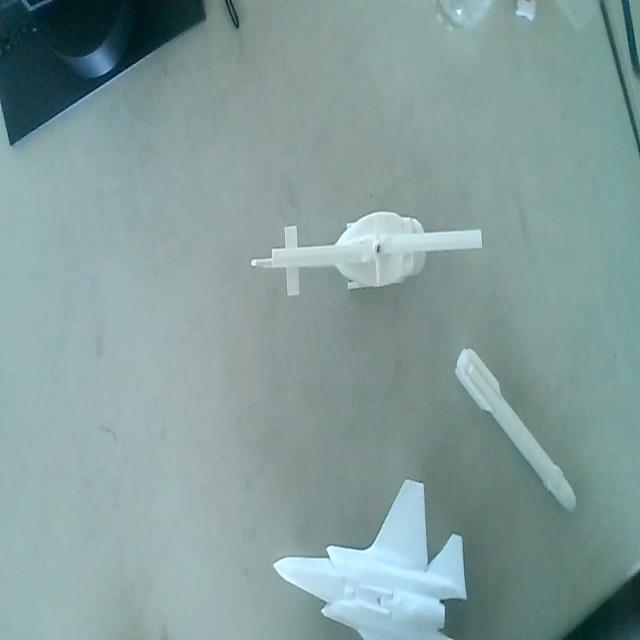Helicopter: (247, 200, 481, 309)
Jet: (268, 475, 469, 640)
Rocket: (449, 328, 580, 520)
